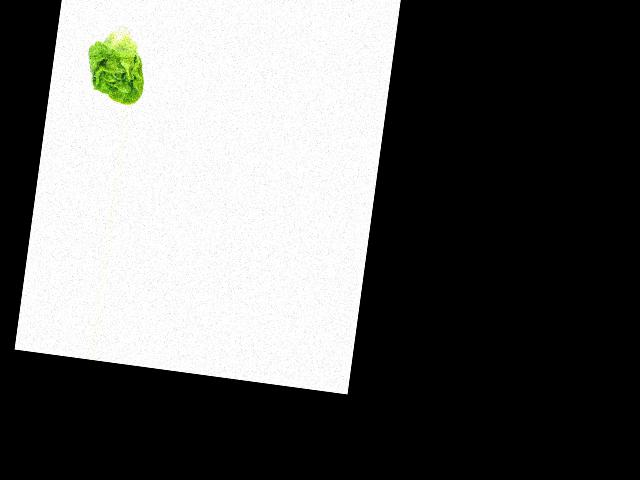lettuce: (78, 19, 153, 107)
